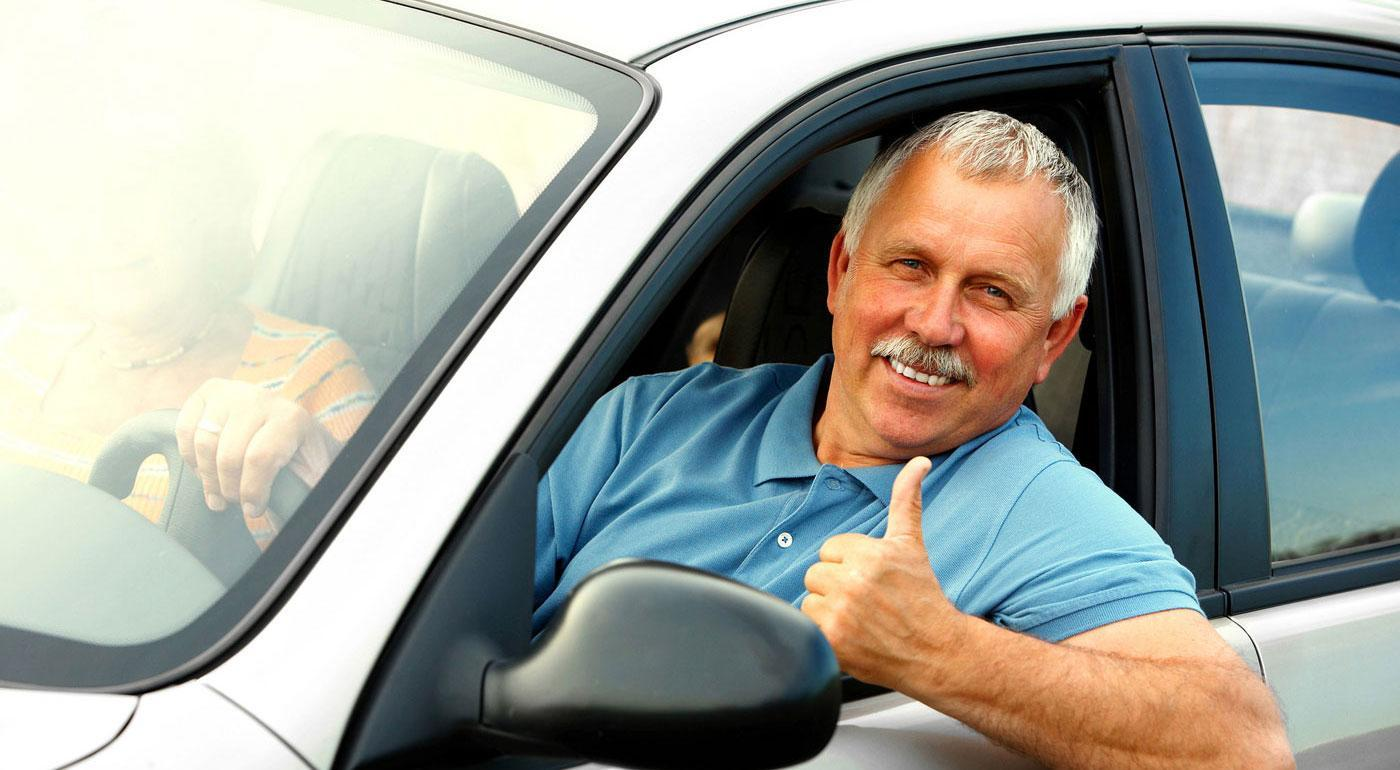Awake: (802, 112, 1108, 479)
